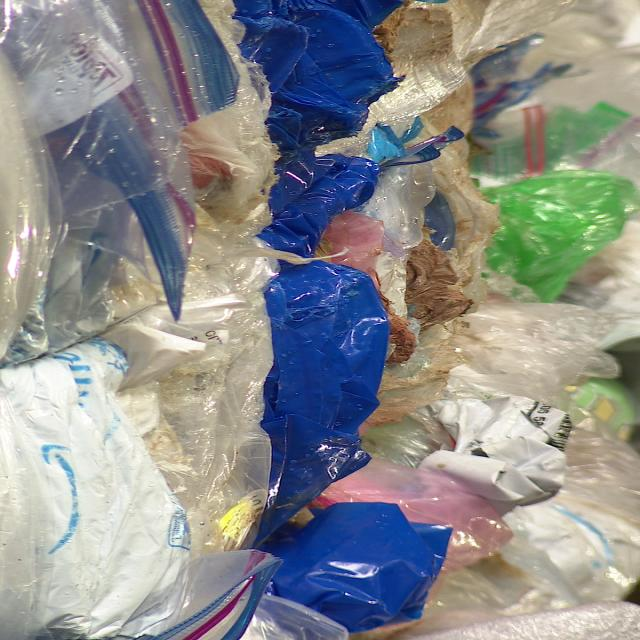Single-layer Plastic: (258, 261, 389, 539), (262, 502, 451, 632), (311, 459, 513, 572), (482, 170, 638, 302), (444, 304, 620, 408)
